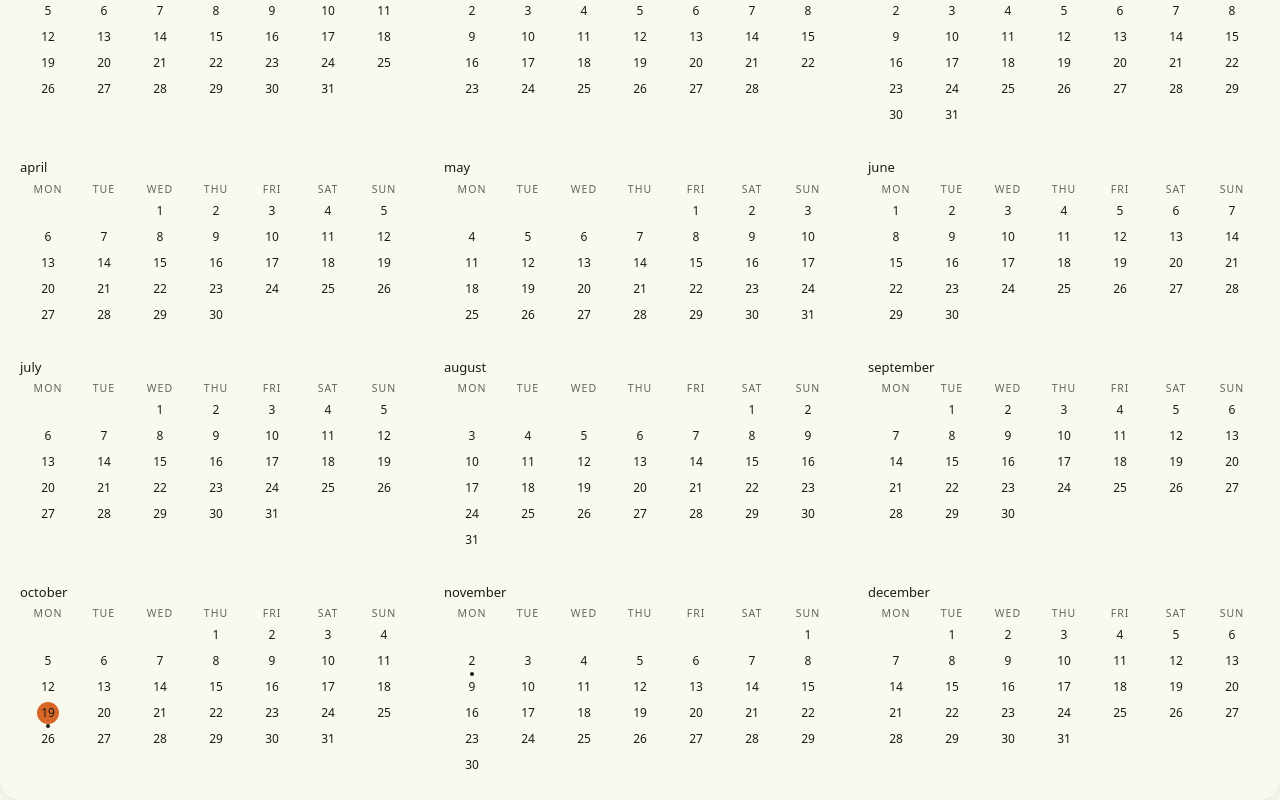
Scenario: year span › marks a day that has a record, and a day click opens that day
The width and height of the screenshot is (1280, 800).
(page scrolled)
Step 1. Click the button named "19 oct" → (48, 715), box [20, 702, 76, 728]
(page scrolled)
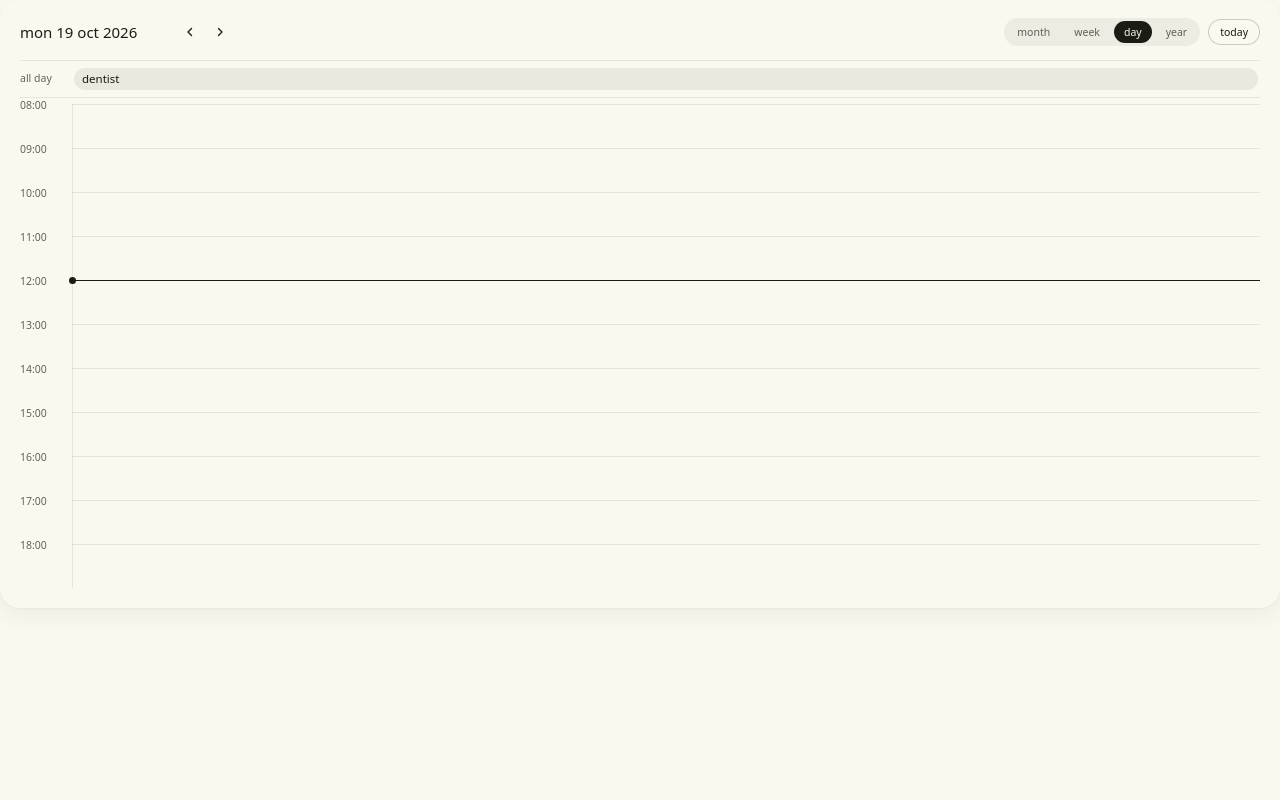
Expected: the radio button labelled "day" is checked, [1114, 21, 1152, 43]
Expected: the text "mon 19 oct 2026" is shown, [20, 22, 137, 42]
